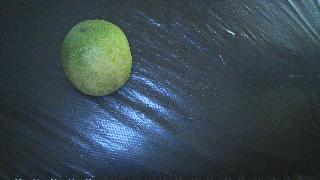DESECHO: (61, 20, 132, 96)
